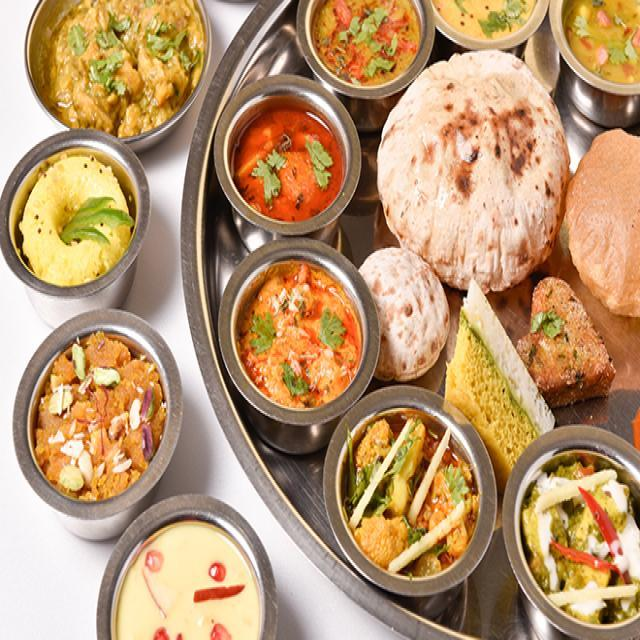dal: (430, 0, 551, 57)
papad: (567, 134, 638, 310), (448, 303, 532, 444)
roti: (384, 57, 563, 297)
sweet: (332, 398, 490, 591), (514, 441, 639, 631), (112, 511, 261, 640), (303, 0, 423, 100), (524, 275, 615, 406), (561, 0, 639, 100)
veg-fry: (226, 249, 373, 421), (33, 0, 201, 135), (231, 95, 358, 234)
